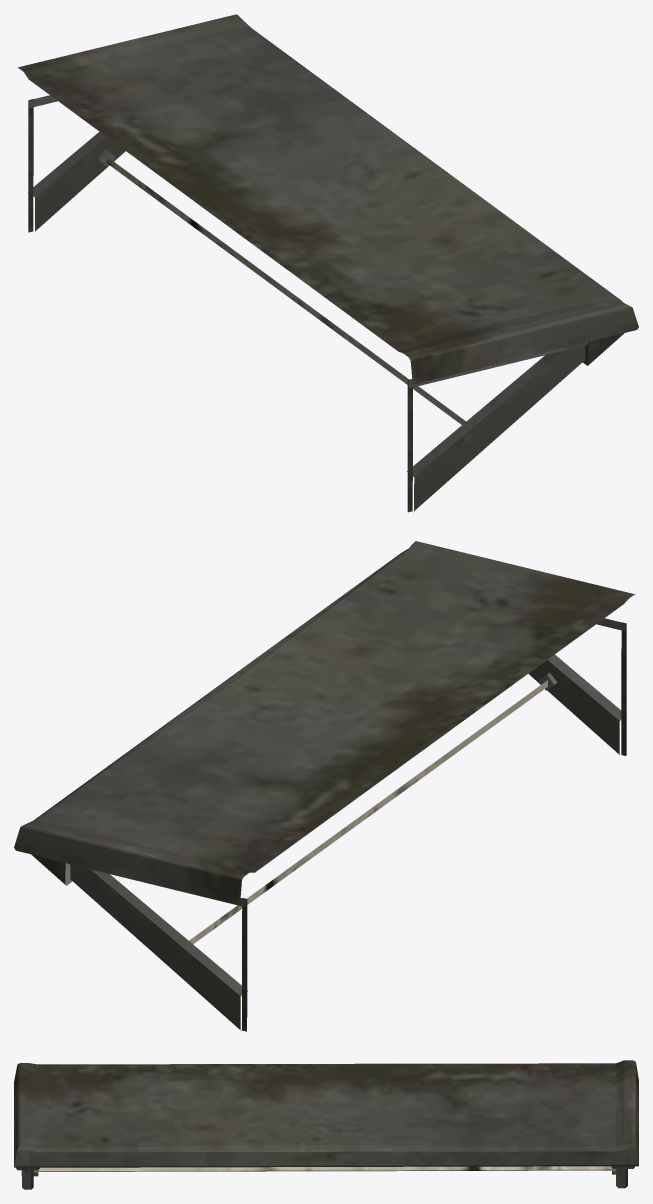
File: prison_metalbed001a.glb
3 views of the same model, one above another, from view 1: azimuth 30°, elevation 25°; view 2: azimuth 150°, elevation 25°; view 3: azimuth 270°, elevation 25° (orthographic). The views are drawn at different scales.
Parts seen in each view (by area): view 1: 0_prison_objects002; view 2: 0_prison_objects002; view 3: 0_prison_objects002.
Boxes of the visible parts, x1,y1,x2,y2 form: 0_prison_objects002: (17,14,638,512); 0_prison_objects002: (14,541,635,1031); 0_prison_objects002: (14,1060,638,1189).
Size of the model in its own units: 0.6667 by 0.452 by 2.02.
Materials: 1 (1 with a texture image).
